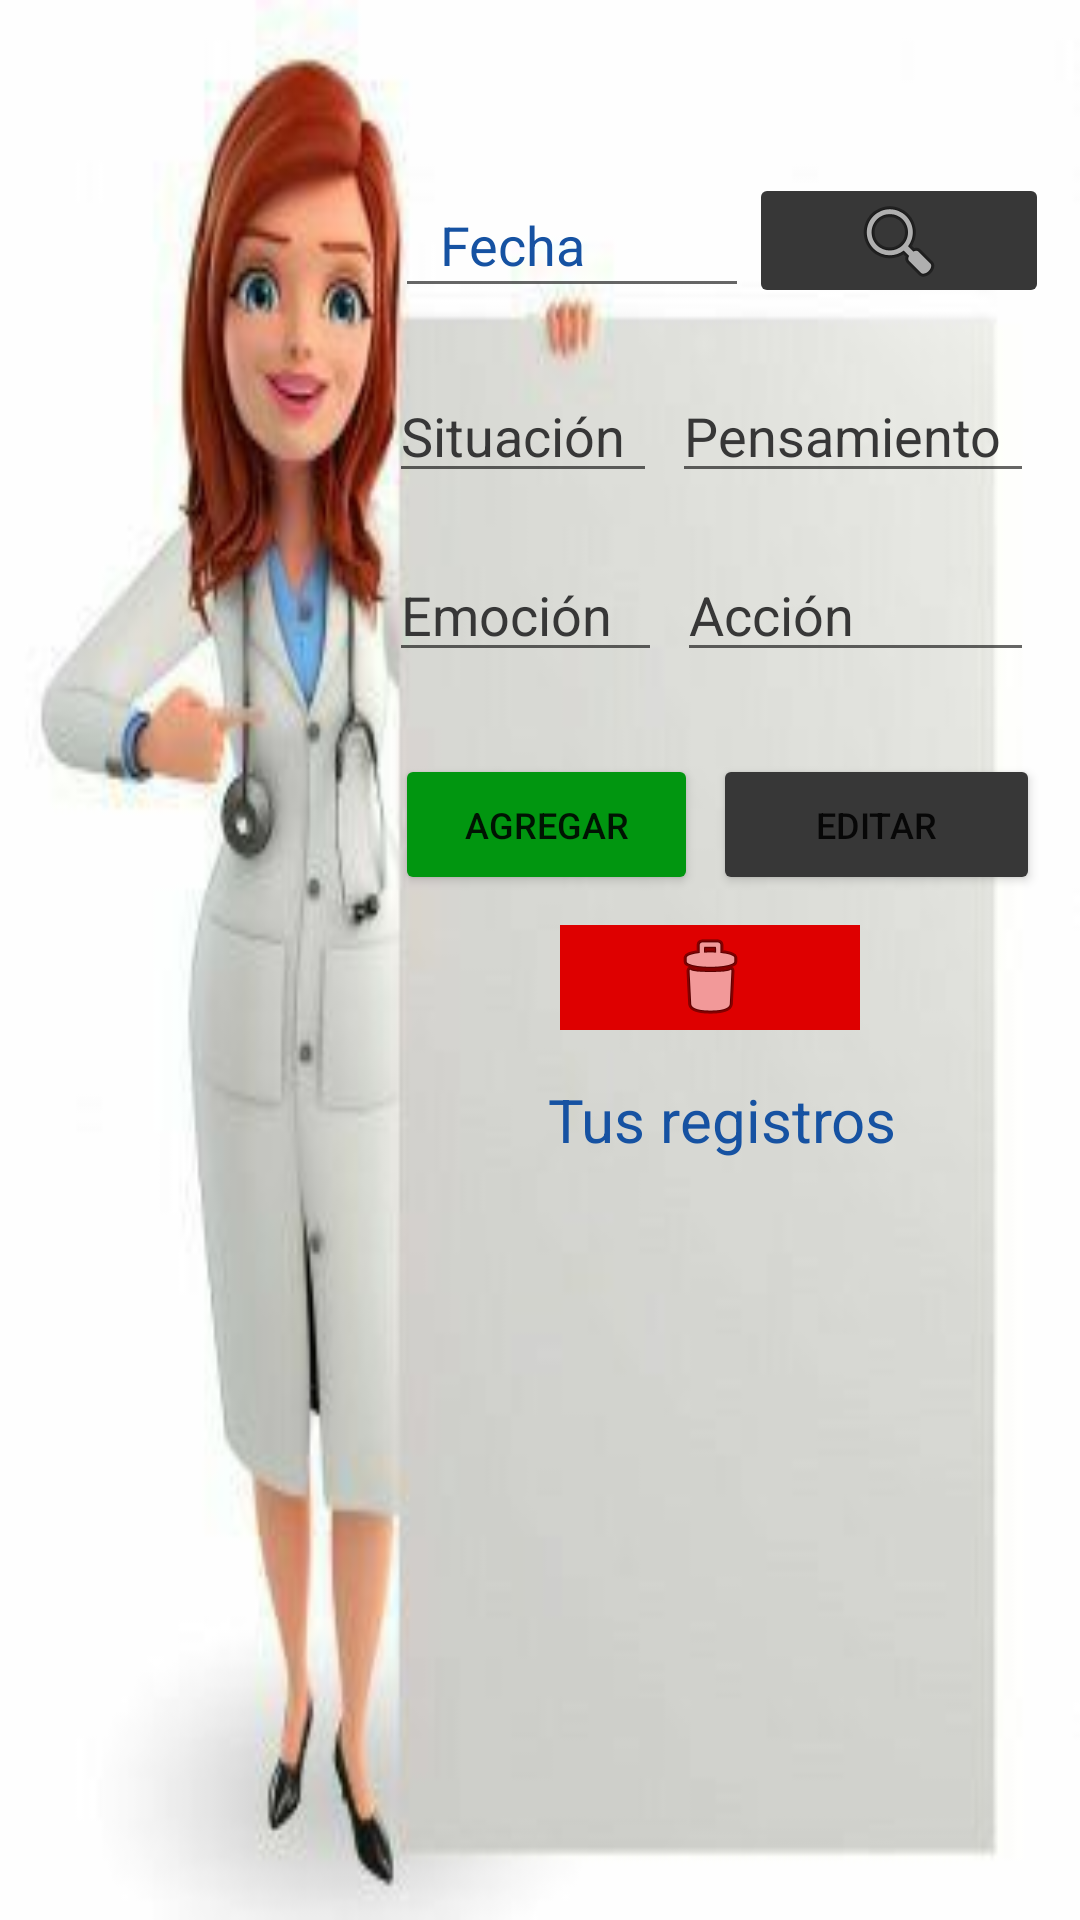

Named icons in this screenshot (1080 x 1920) and their centers, point (x, y):
delete: point (710, 977)
search: point (899, 240)
